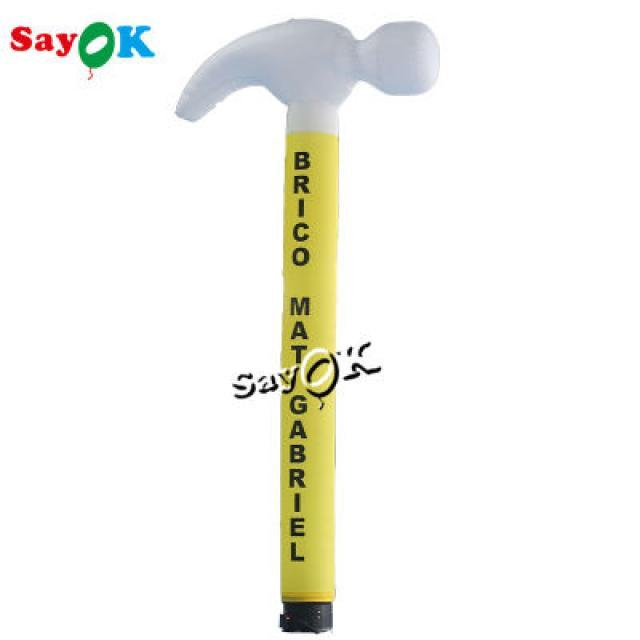hammer: (164, 13, 468, 640)
